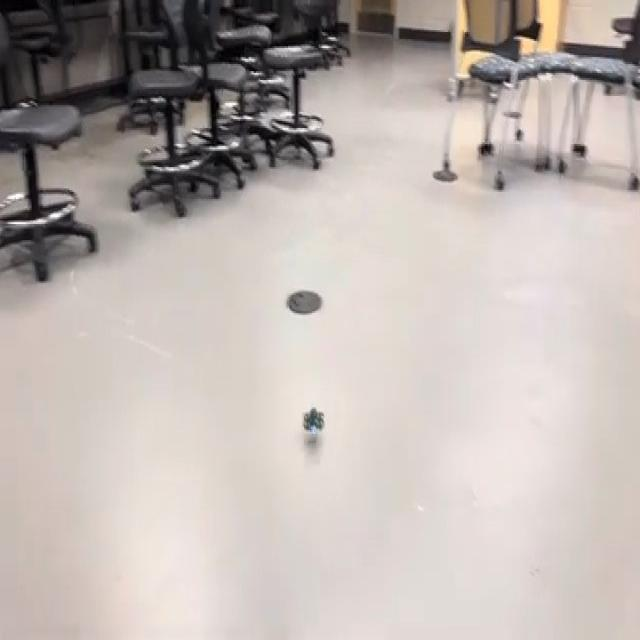drone: (293, 396, 332, 442)
